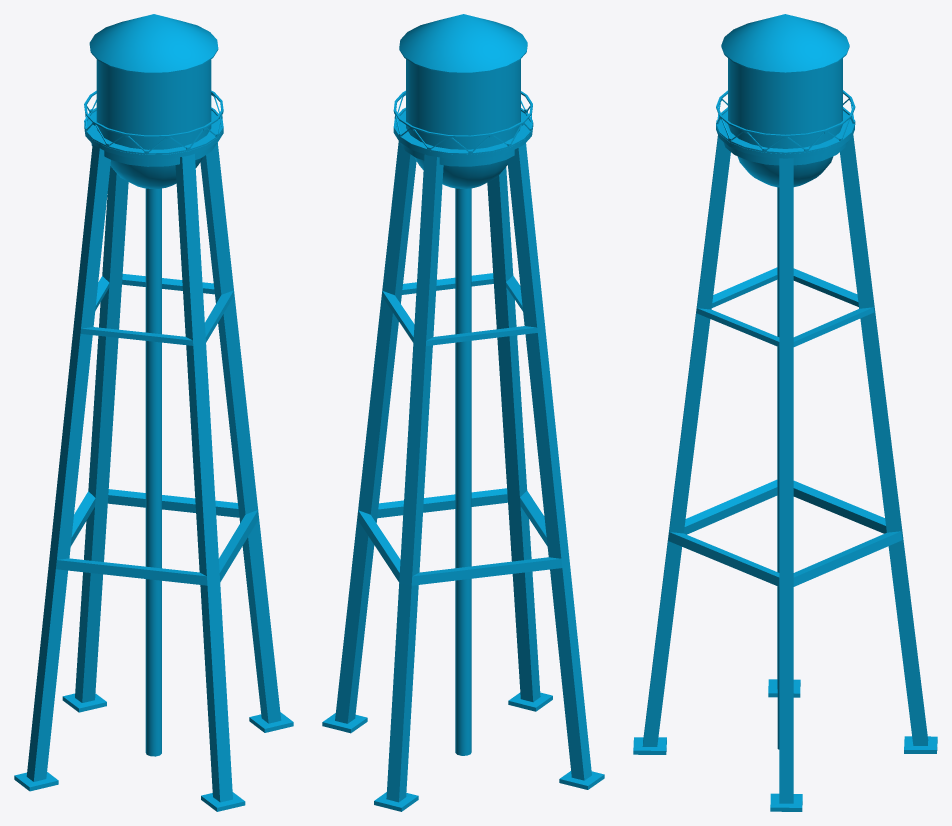
File: Water_Tower_Lod0.fbx
3 views of the same model, side by side, from view 1: azimuth 30°, elevation 25°; view 2: azimuth 150°, elevation 25°; view 3: azimuth 270°, elevation 25° (orthographic).
Parts seen in each view (by area): view 1: Water_Tower_Lod0; view 2: Water_Tower_Lod0; view 3: Water_Tower_Lod0.
Part boxes in pixels (left/top/right/bottom): Water_Tower_Lod0: left=14, top=14, right=293, bottom=811; Water_Tower_Lod0: left=322, top=14, right=604, bottom=811; Water_Tower_Lod0: left=633, top=14, right=937, bottom=811.
Bounding box in the file's own units: 1028 × 2736 × 1028.
